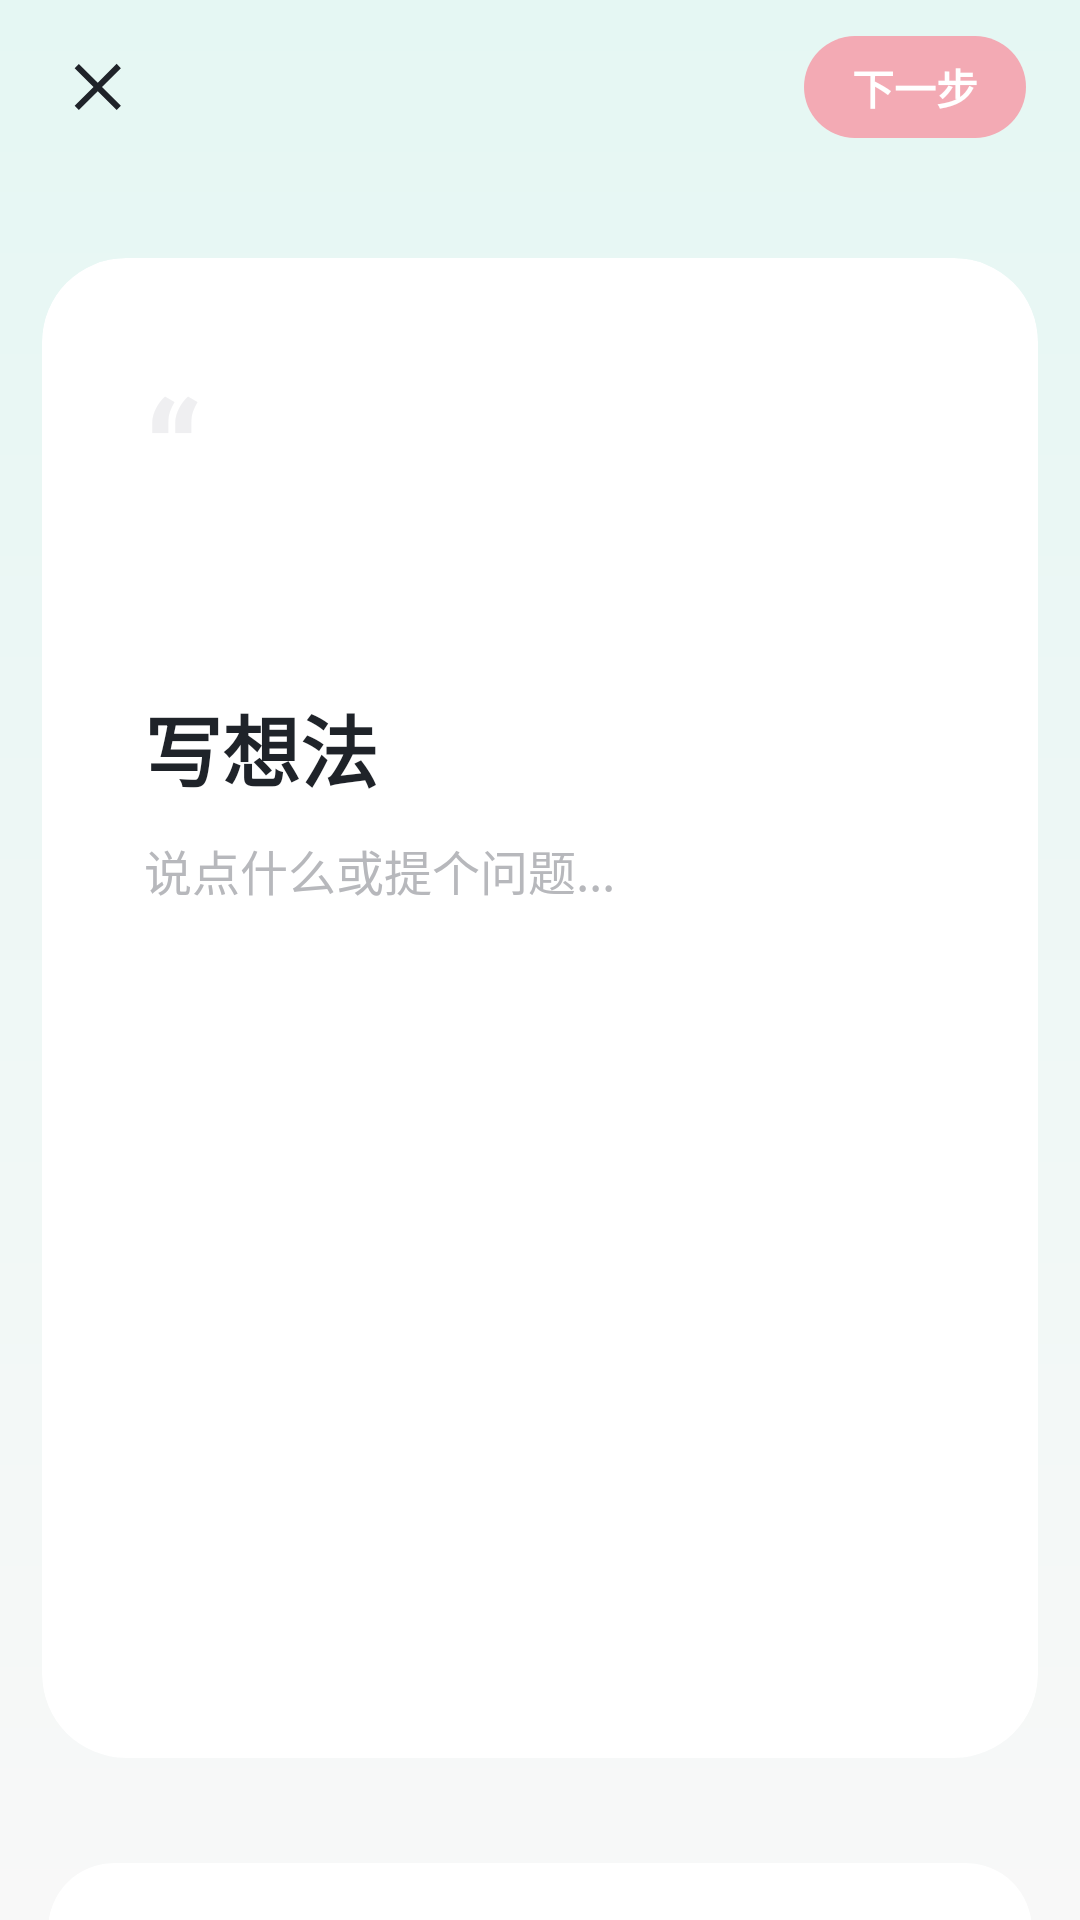

Icon click points for this 1080x1920 phone screenshot, format [x,y]:
关闭: [97,87]
